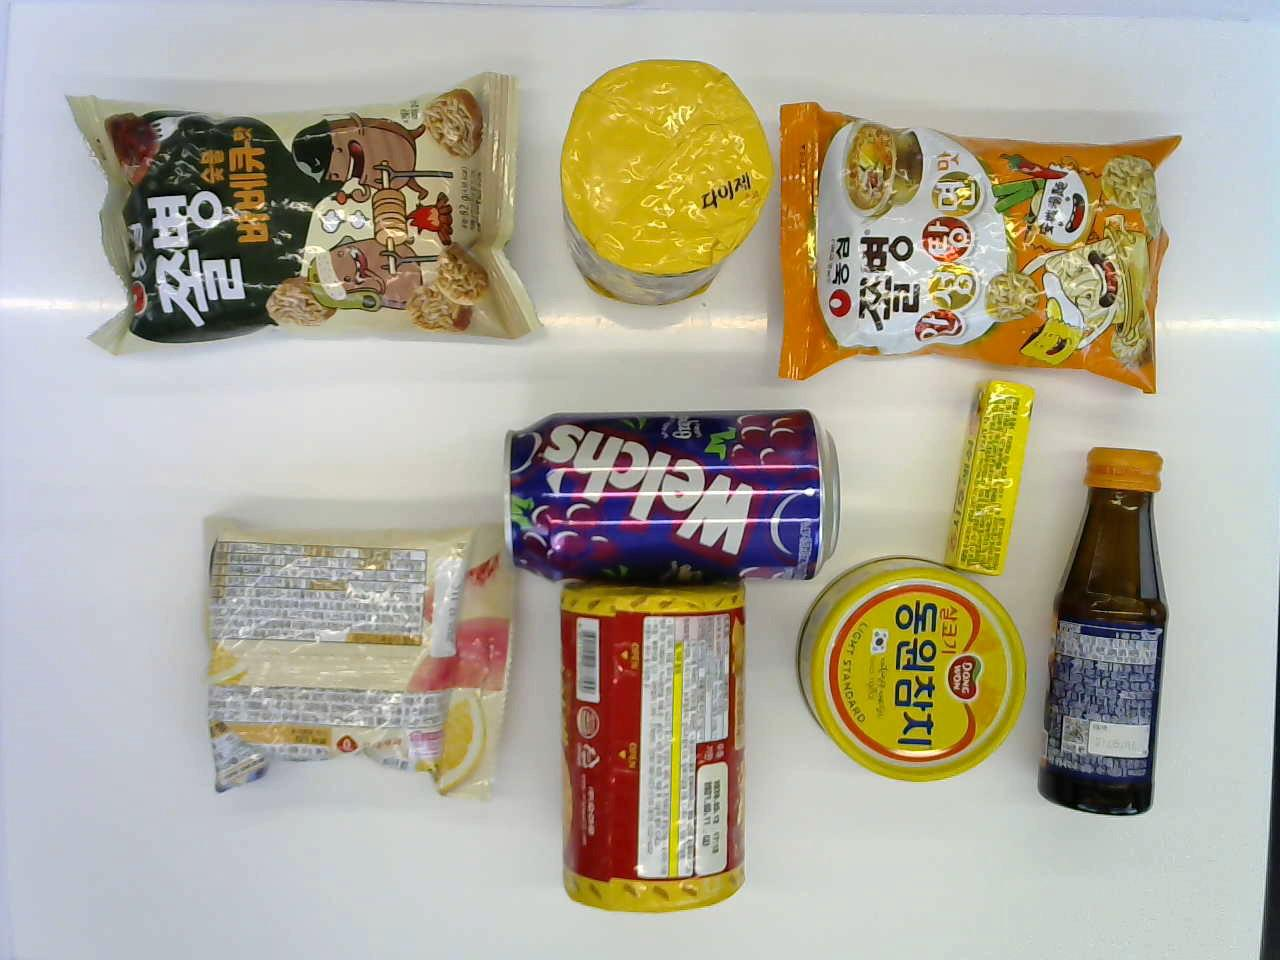diget_choco: (551, 51, 765, 309)
diget_ori: (552, 584, 753, 915)
gumi_gumi: (182, 508, 508, 785)
jjolbyung_noodle: (66, 78, 540, 357)
jjolbyung_ori: (746, 102, 1221, 381)
juicyfresh: (957, 375, 1039, 573)
tuna: (799, 557, 1027, 792)
vita500: (1049, 448, 1184, 834)
welchs: (502, 402, 854, 592)
